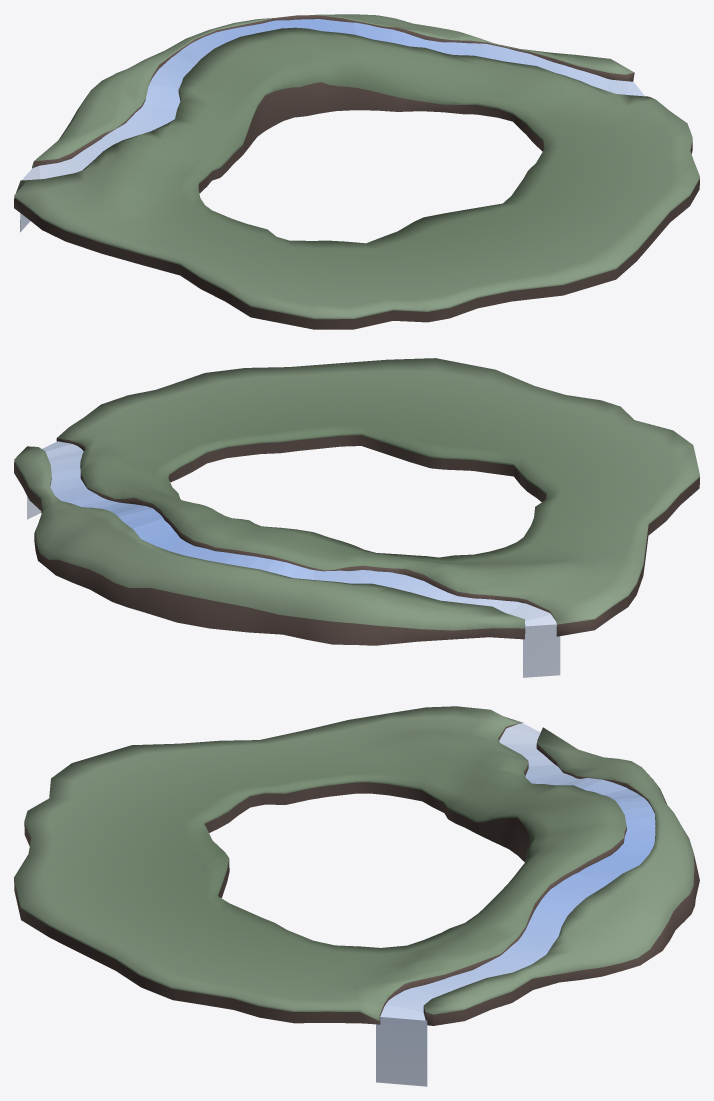
Rendered from Environment 1.fbx.
3 renders of one model, top to bottom at view 1: azimuth 30°, elevation 25°; view 2: azimuth 150°, elevation 25°; view 3: azimuth 270°, elevation 25°, orthographic. The views are drawn at different scales.
Parts seen in each view (by area): view 1: Ground, River; view 2: Ground, River; view 3: Ground, River.
Boxes of the visible parts, left/top/right/bottom form: Ground: left=14, top=14, right=699, bottom=329; River: left=20, top=19, right=644, bottom=232; Ground: left=14, top=358, right=699, bottom=645; River: left=27, top=441, right=560, bottom=677; Ground: left=14, top=706, right=699, bottom=1025; River: left=376, top=723, right=655, bottom=1086.
Size of the model in its own units: 1357 by 250 by 1290.
2 materials, 2 textured.
